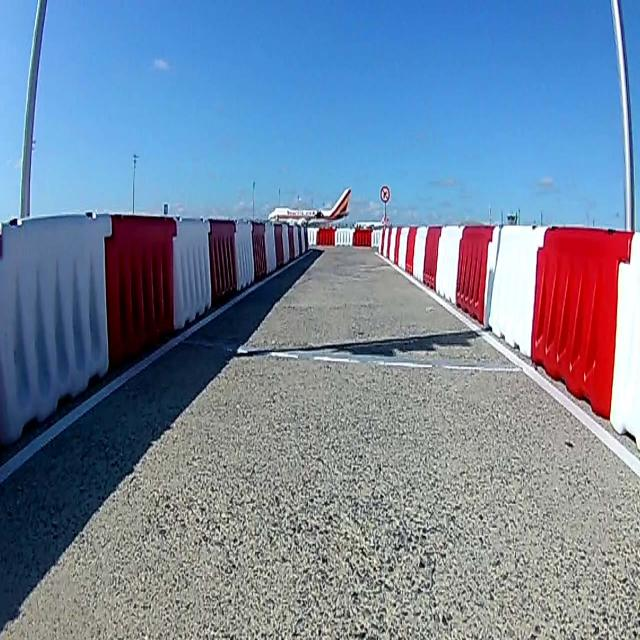sagadonulmez: (379, 184, 391, 204)
